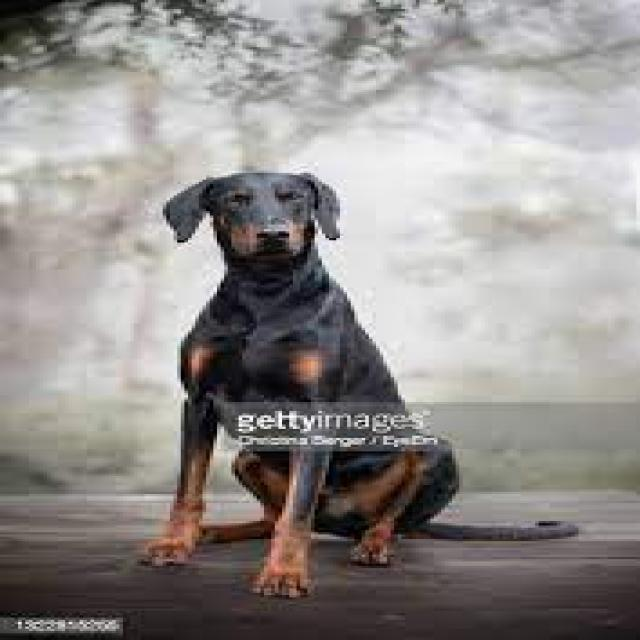Dog: (126, 166, 583, 595)
